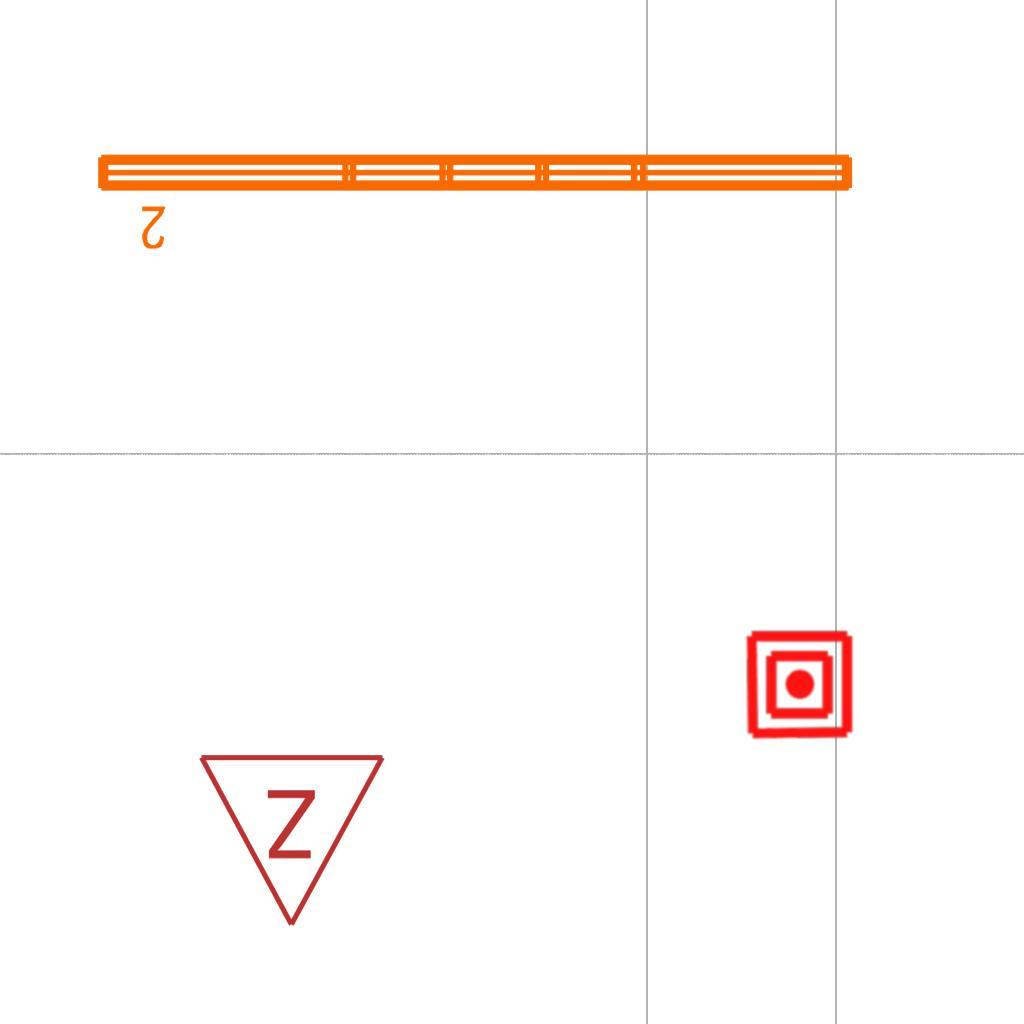Ambulanz_Pendelleuchte_LED: (89, 142, 863, 254)
NAM-Nichtautomatischer_Melder: (743, 628, 856, 741)
Zimmersignalleuchte: (196, 740, 392, 940)
